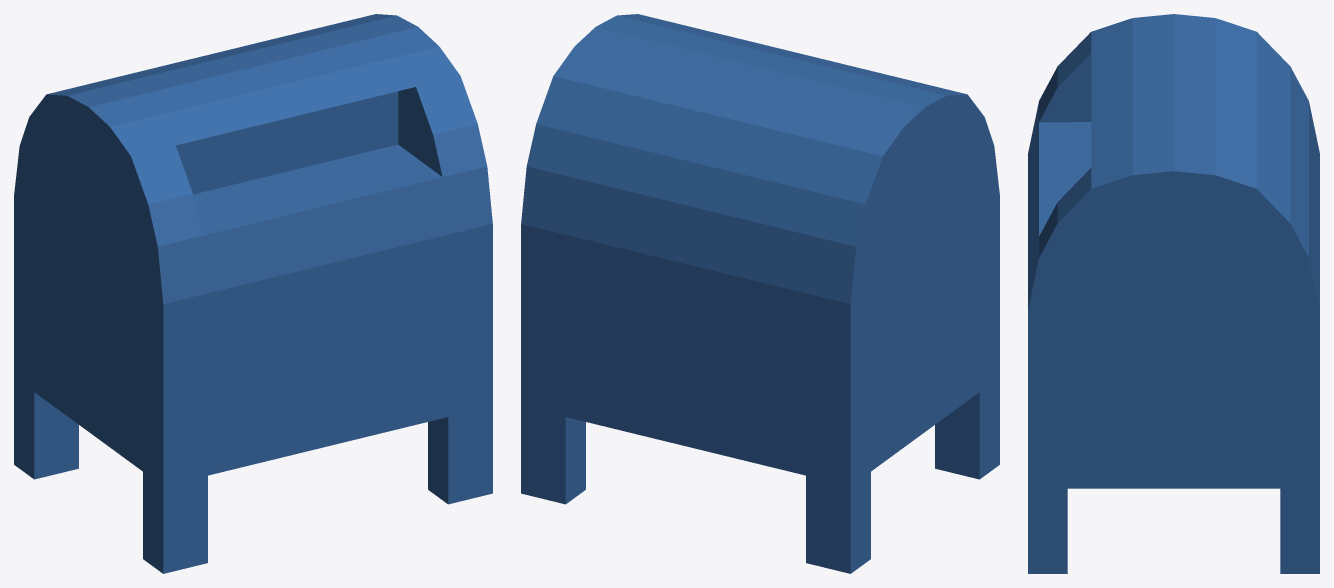
Rendered from Mailbox_Blue.fbx.
3 views of the same model, side by side, from view 1: azimuth 30°, elevation 25°; view 2: azimuth 150°, elevation 25°; view 3: azimuth 270°, elevation 25° (orthographic). The views are drawn at different scales.
Parts seen in each view (by area): view 1: MailboxBlue; view 2: MailboxBlue; view 3: MailboxBlue.
Part boxes in pixels (x1,y1,x2,y2): MailboxBlue: [14, 14, 492, 573]; MailboxBlue: [521, 14, 999, 573]; MailboxBlue: [1028, 14, 1319, 573].
Size of the model in its own units: 128 by 152 by 100.
